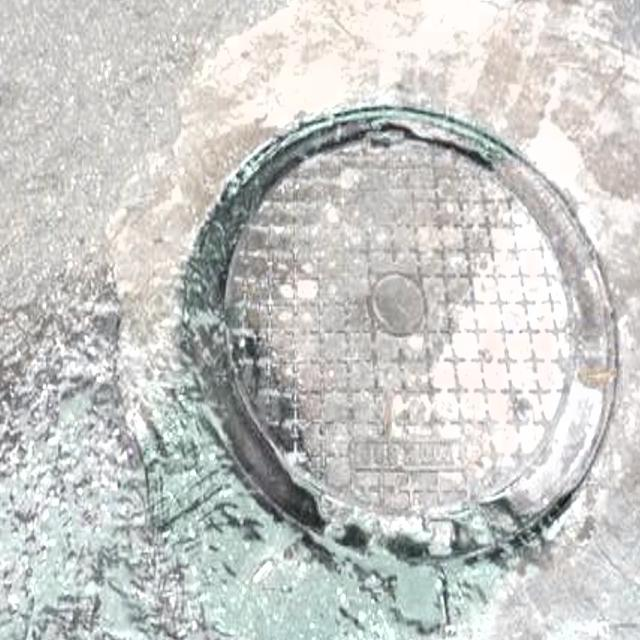circle: (116, 29, 640, 640)
